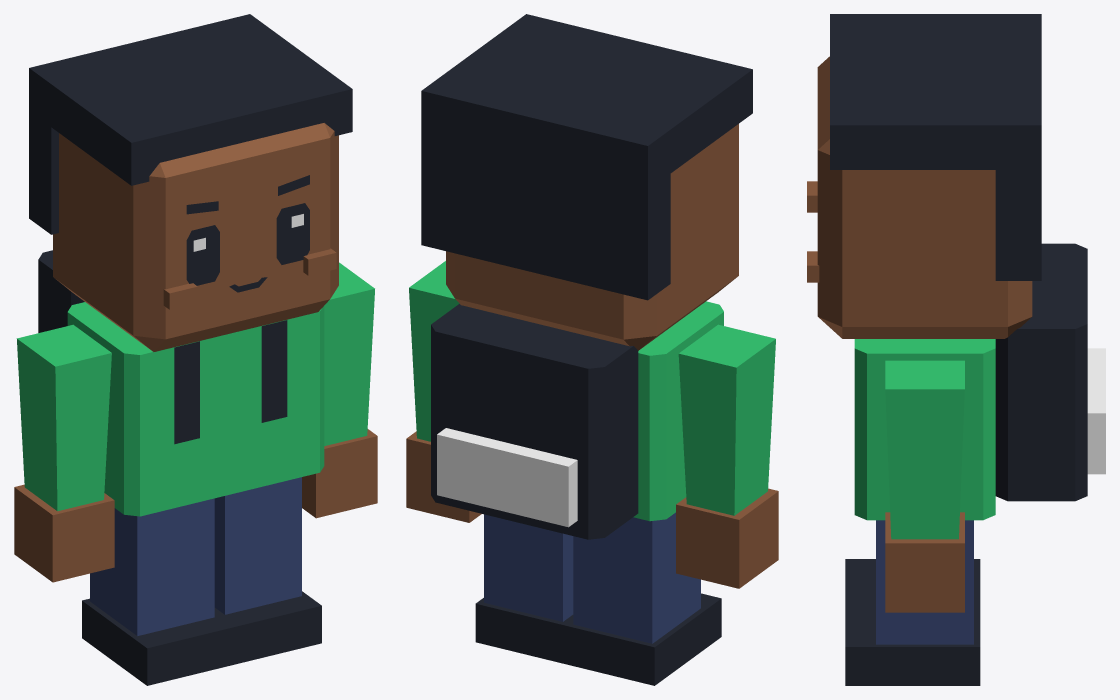
File: townsperson-backpack.glb
3 views of the same model, side by side, from view 1: azimuth 30°, elevation 25°; view 2: azimuth 150°, elevation 25°; view 3: azimuth 270°, elevation 25° (orthographic). The views are drawn at different scales.
Parts seen in each view (by area): view 1: head, hair, body, arm_R, leg_R, leg_L, arm_L, shoe_R, hand_R, backpack, face, hand_L (+1 smaller); view 2: hair, backpack, head, arm_R, leg_R, body, leg_L, hand_R, shoe_R, arm_L, shoe_L, hand_L; view 3: hair, head, backpack, body, arm_L, shoe_L, hand_L, leg_L, shoe_R, face.
Boxes of the visible parts, x1,y1,x2,y2 form: head: (53,123,338,351); hair: (29,14,352,234); body: (67,302,324,516); arm_R: (16,324,111,511); leg_R: (90,498,214,635); leg_L: (214,477,301,614); arm_L: (324,262,374,445); shoe_R: (82,598,234,685); hand_R: (14,484,114,582); backpack: (38,250,287,444); face: (163,175,336,309); hand_L: (302,429,377,518); hair: (421,14,752,300); backpack: (431,304,638,539); head: (446,124,738,350); arm_R: (678,324,775,515); leg_R: (573,512,700,643); body: (633,301,723,521); leg_L: (484,514,573,621); hand_R: (676,488,778,588); shoe_R: (565,593,721,685); arm_L: (409,261,459,441); shoe_L: (475,598,573,663); hand_L: (406,431,481,522); hair: (830,14,1041,280); head: (817,56,1032,338); backpack: (995,243,1105,501); body: (854,339,995,520); arm_L: (885,360,964,539); shoe_L: (845,603,980,685); hand_L: (885,512,964,612); leg_L: (876,520,973,644); shoe_R: (845,559,980,602); face: (807,181,819,282).
Bounding box in the file's own units: 1.26 × 2.06 × 0.975.
